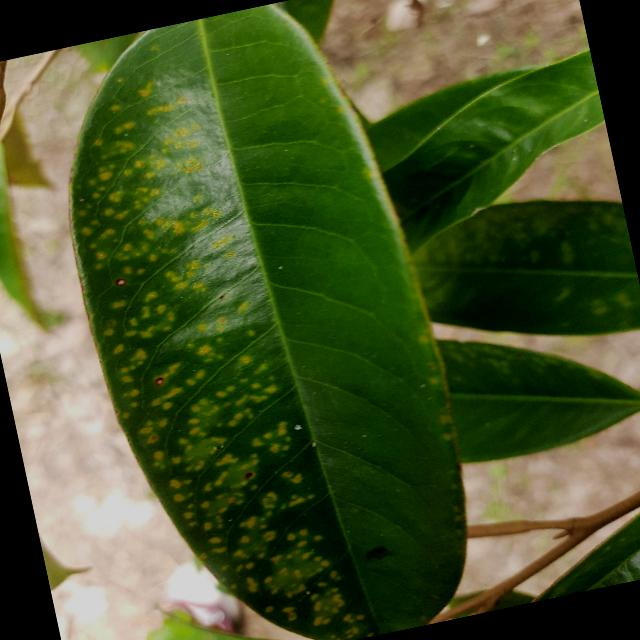Leaf Spot: (13, 0, 508, 639)
